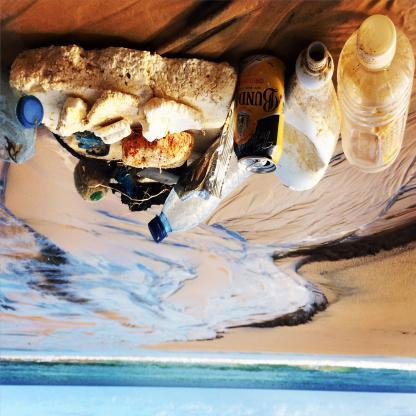Metal: (233, 49, 286, 178)
Plastic: (338, 23, 410, 178), (146, 146, 250, 245), (274, 40, 342, 189), (1, 78, 43, 172)
